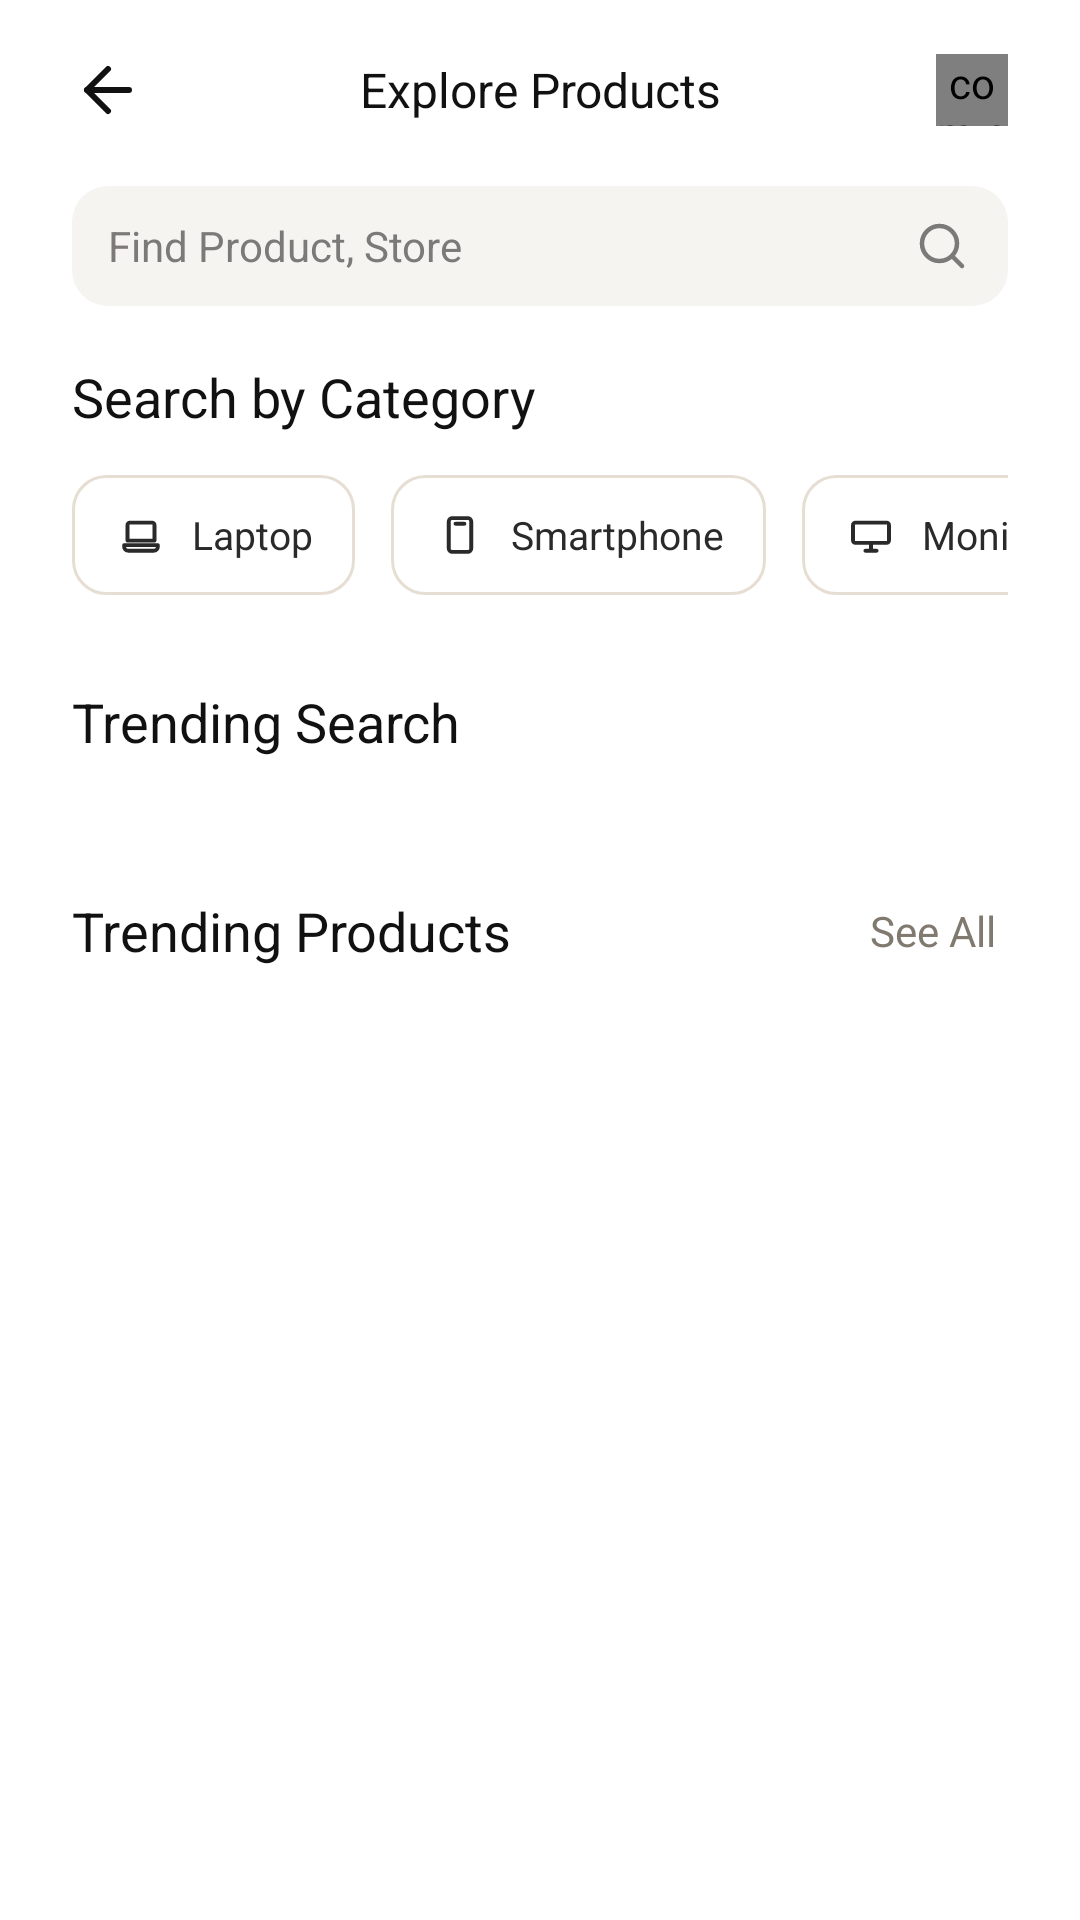

Where icons sit on this 1080*1920 app screen, as detection(x1, y1, x2, y2):
Back: detection(84, 66, 132, 114)
Search: detection(919, 223, 964, 269)
